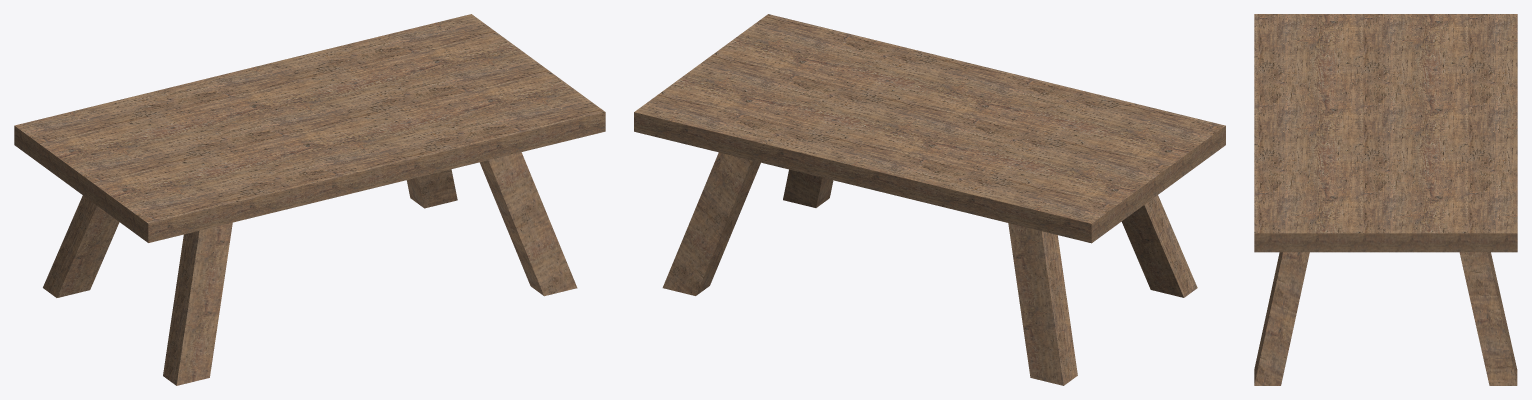
Rendered from table_textured.FBX.
3 views of the same model, side by side, from view 1: azimuth 30°, elevation 25°; view 2: azimuth 150°, elevation 25°; view 3: azimuth 270°, elevation 25° (orthographic).
Visible parts, largest first — view 1: Box001; view 2: Box001; view 3: Box001.
Boxes of the visible parts, x1,y1,x2,y2 form: Box001: [14, 14, 605, 385]; Box001: [634, 14, 1225, 385]; Box001: [1254, 14, 1517, 385].
Bounding box in the file's own units: 2.87 × 1.01 × 1.46.
Materials: 1 (1 with a texture image).
